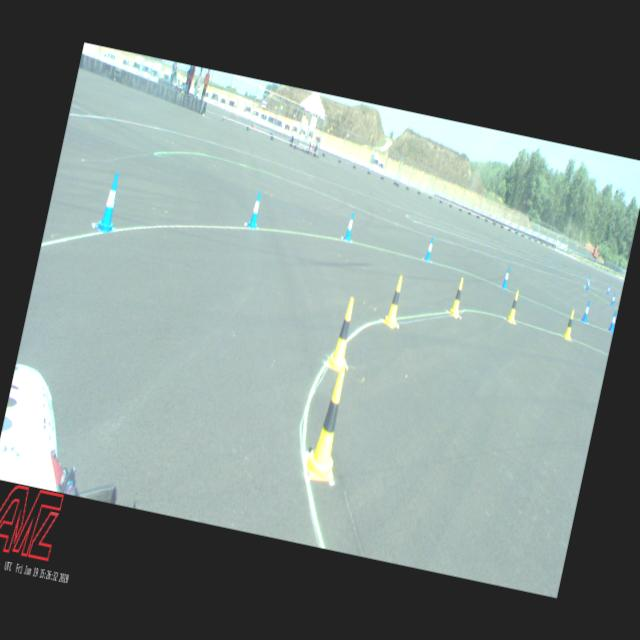blue_cone: (94, 170, 125, 233), (246, 190, 264, 230), (342, 210, 356, 240), (580, 300, 591, 322), (424, 236, 434, 260), (500, 265, 510, 289), (607, 310, 617, 332), (609, 292, 616, 306), (586, 278, 590, 290), (586, 275, 590, 286), (606, 284, 610, 294)
yellow_cone: (304, 366, 356, 484), (328, 296, 359, 370), (384, 274, 406, 326), (448, 276, 466, 316), (505, 290, 521, 324), (561, 309, 576, 340)
